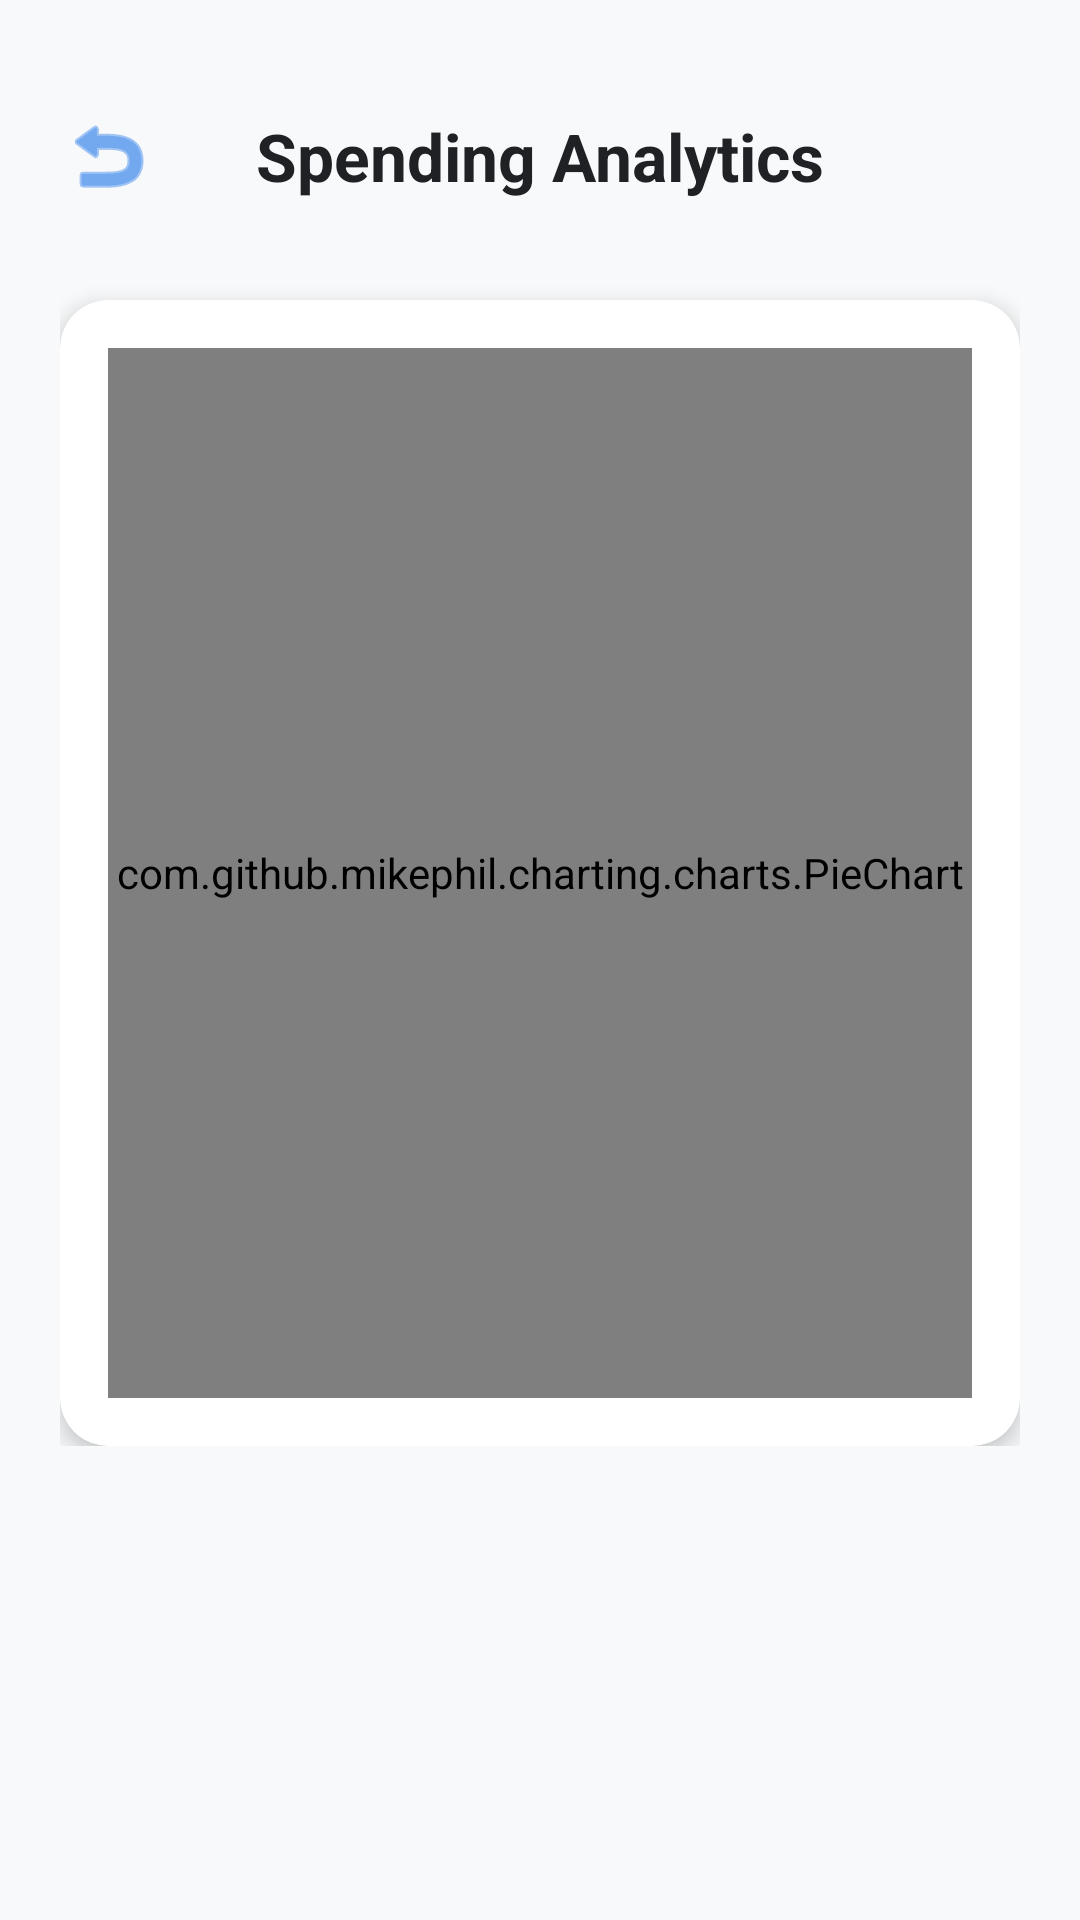

Point at icon controls on the screen. Image size 1080 x 1920, points as (x=x, y=y).
Back: (x=109, y=156)
